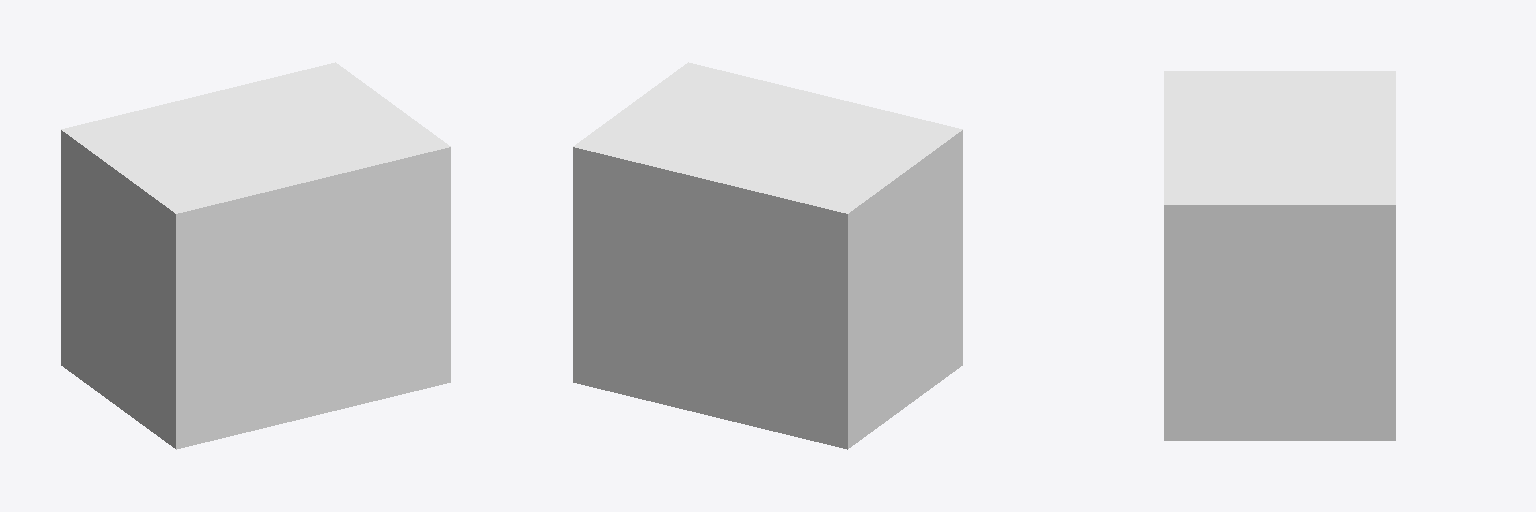
File: cabezabarbaro.obj
3 renders of one model, left to right at view 1: azimuth 30°, elevation 25°; view 2: azimuth 150°, elevation 25°; view 3: azimuth 270°, elevation 25°, orthographic.
Visible parts, largest first — view 1: object 1; view 2: object 1; view 3: object 1.
Boxes of the visible parts, x1=… form: object 1: x1=61, y1=62, x2=450, y2=449; object 1: x1=573, y1=62, x2=962, y2=449; object 1: x1=1164, y1=71, x2=1395, y2=440.
Size of the model in its own units: 1.1 by 0.9 by 0.8.